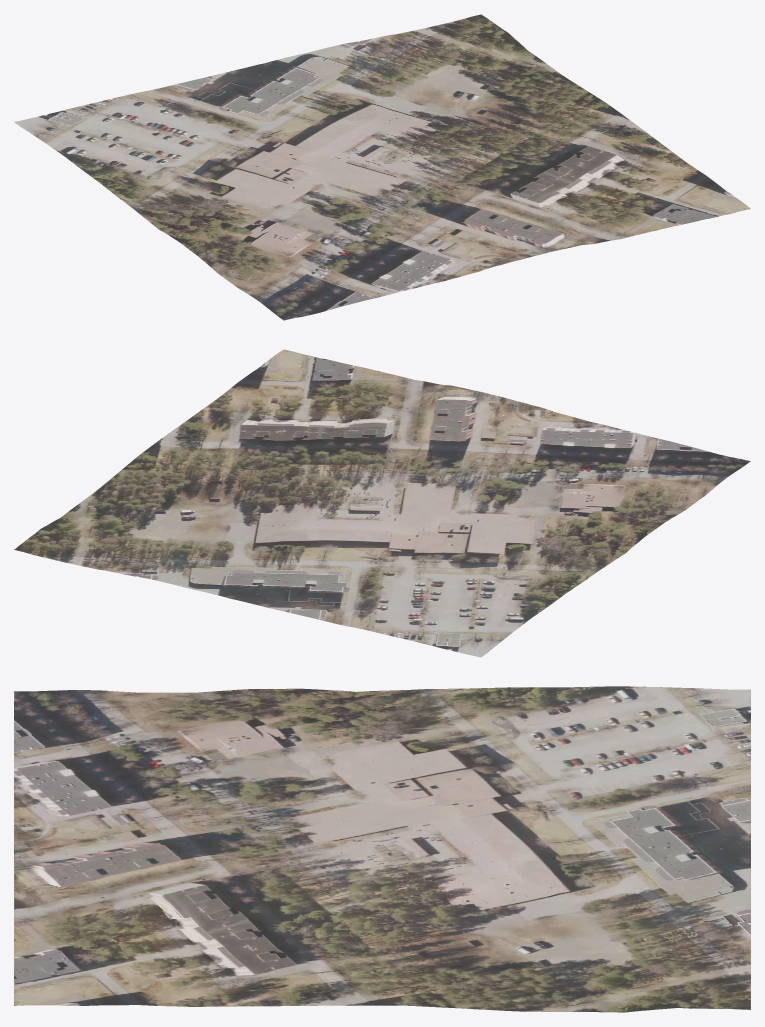
The model's file is CM_Terrain_24491278_6816108.fbx.
The picture shows the model from 3 angles, top to bottom: view 1: azimuth 30°, elevation 25°; view 2: azimuth 150°, elevation 25°; view 3: azimuth 270°, elevation 25°; orthographic projection. The views are drawn at different scales.
Visible parts, largest first — view 1: CM_Terrain_24491278_6816108_LOD0; view 2: CM_Terrain_24491278_6816108_LOD0; view 3: CM_Terrain_24491278_6816108_LOD0.
Boxes of the visible parts, x1,y1,x2,y2 form: CM_Terrain_24491278_6816108_LOD0: [14, 14, 750, 320]; CM_Terrain_24491278_6816108_LOD0: [14, 349, 750, 657]; CM_Terrain_24491278_6816108_LOD0: [14, 686, 750, 1012].
Size of what is drawn, in the model's own units: 205 by 4.67 by 205.
